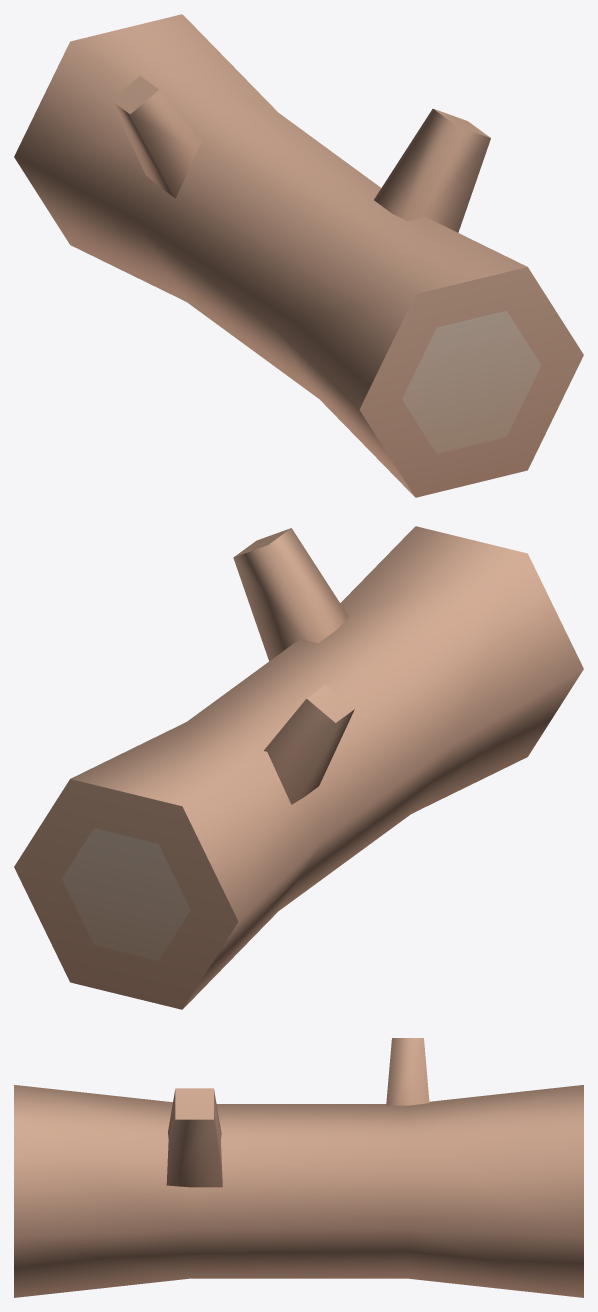
Rendered from tree-log-small.glb.
3 views of the same model, one above another, from view 1: azimuth 30°, elevation 25°; view 2: azimuth 150°, elevation 25°; view 3: azimuth 270°, elevation 25° (orthographic). The views are drawn at different scales.
Parts seen in each view (by area): view 1: tree-log-small; view 2: tree-log-small; view 3: tree-log-small.
Part boxes in pixels (x1,y1,x2,y2): tree-log-small: (14, 14, 583, 497); tree-log-small: (14, 526, 583, 1009); tree-log-small: (14, 1038, 583, 1297).
Bounding box in the file's own units: 0.2495 × 0.2771 × 0.65.
